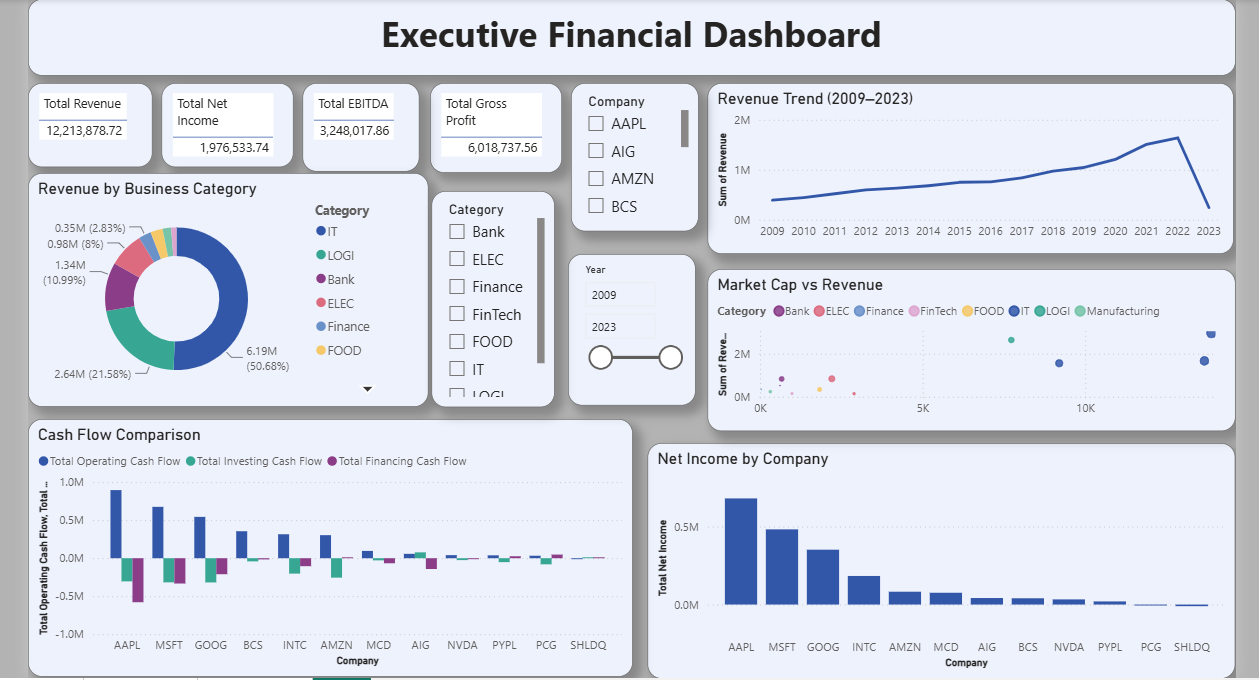

Layout of this report page (visuals, bound fields, positions):
{"tool":"powerbi","page":{"name":"Page 1","canvas":[1280,720],"ordinal":0},"visuals":[{"type":"textbox","box":[0,0,1280.4,81.1],"z":0},{"type":"tableEx","fields":{"Values":["Financial Statement.Total Revenue"]},"box":[0,89.1,132,89.1],"z":1000},{"type":"tableEx","fields":{"Values":["Financial Statement.Total Net Income"]},"box":[141.9,89.1,140,89.1],"z":2000},{"type":"tableEx","fields":{"Values":["Financial Statement.Total Gross Profit"]},"box":[425.6,89.1,140,95.4],"z":3000},{"type":"tableEx","fields":{"Values":["Financial Statement.Total EBITDA"]},"box":[291.7,89.1,124.1,93.8],"z":4000},{"type":"lineChart","title":"Revenue Trend (2009–2023)","fields":{"Category":["Financial Statement.Year"],"Y":["Sum(Financial Statement.Revenue)"]},"box":[720.5,89.1,558.3,181.3],"z":5000},{"type":"clusteredColumnChart","title":"Net Income by Company ","fields":{"Category":["Financial Statement.Company "],"Y":["Financial Statement.Total Net Income"]},"box":[656.9,470.8,623.5,249.7],"z":6000},{"type":"donutChart","title":"Revenue by Business Category","fields":{"Category":["Financial Statement.Category"],"Y":["Financial Statement.Total Revenue"]},"box":[0,184.5,424.7,248.1],"z":7000},{"type":"clusteredColumnChart","title":"Cash Flow Comparison","fields":{"Category":["Financial Statement.Company "],"Y":["Financial Statement.Total Operating Cash Flow","Financial Statement.Total Investing Cash Flow","Financial Statement.Total Financing Cash Flow"]},"box":[0,445.4,641,273.6],"z":8000},{"type":"slicer","fields":{"Values":["Financial Statement.Year"]},"box":[572.6,270.4,135.2,160.7],"z":9000},{"type":"slicer","fields":{"Values":["Financial Statement.Company "]},"box":[575.5,89.1,135.2,157.5],"z":10000},{"type":"slicer","fields":{"Values":["Financial Statement.Category"]},"box":[427.9,203.6,130.4,229],"z":11000},{"type":"scatterChart","title":"Market Cap vs Revenue","fields":{"X":["Sum(Financial Statement.Market Cap(in B USD))"],"Y":["Sum(Financial Statement.Revenue)"],"Size":["Sum(Financial Statement.EBITDA)"],"Category":["Financial Statement.Company "],"Series":["Financial Statement.Category"]},"box":[720.5,286.3,559.9,171.8],"z":12000}]}

Visuals, with their boxes in screenshot pixels (x1, y1, x2, y2):
textbox: rect(36, 0, 1226, 72)
tableEx - Financial Statement.Total Revenue: rect(36, 80, 159, 162)
tableEx - Financial Statement.Total Net Income: rect(168, 80, 298, 162)
tableEx - Financial Statement.Total Gross Profit: rect(432, 80, 562, 168)
tableEx - Financial Statement.Total EBITDA: rect(307, 80, 423, 167)
"Revenue Trend (2009–2023)" lineChart: rect(706, 80, 1225, 248)
"Net Income by Company " clusteredColumnChart: rect(647, 434, 1226, 666)
"Revenue by Business Category" donutChart: rect(36, 168, 431, 399)
"Cash Flow Comparison" clusteredColumnChart: rect(36, 411, 632, 665)
slicer - Financial Statement.Year: rect(568, 248, 694, 397)
slicer - Financial Statement.Company : rect(571, 80, 697, 226)
slicer - Financial Statement.Category: rect(434, 186, 555, 399)
"Market Cap vs Revenue" scatterChart: rect(706, 263, 1226, 423)
